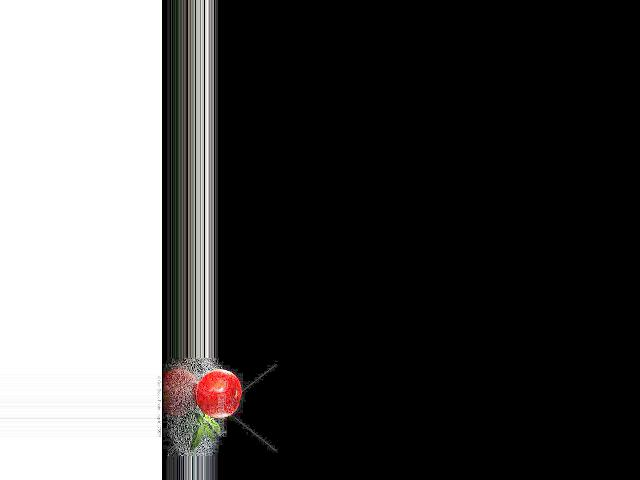tomato: (196, 369, 241, 418)
